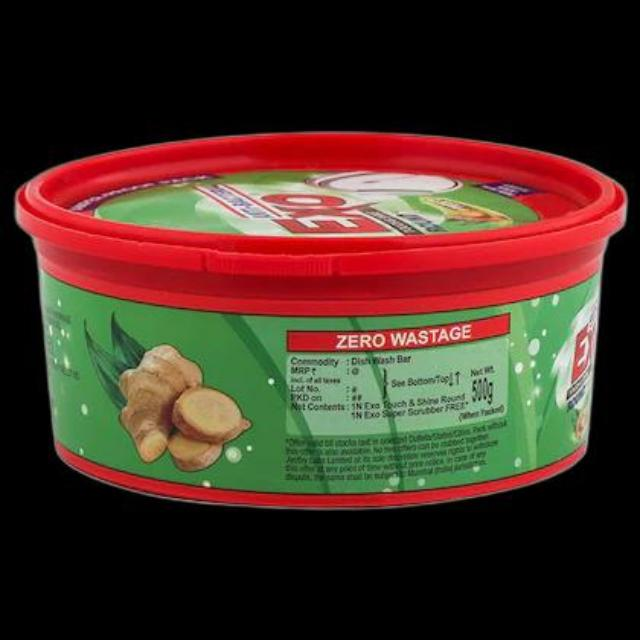Exo Touch - Shine Anti-Bacterial Round Dishwash Bar 500 g: (18, 132, 628, 510)
